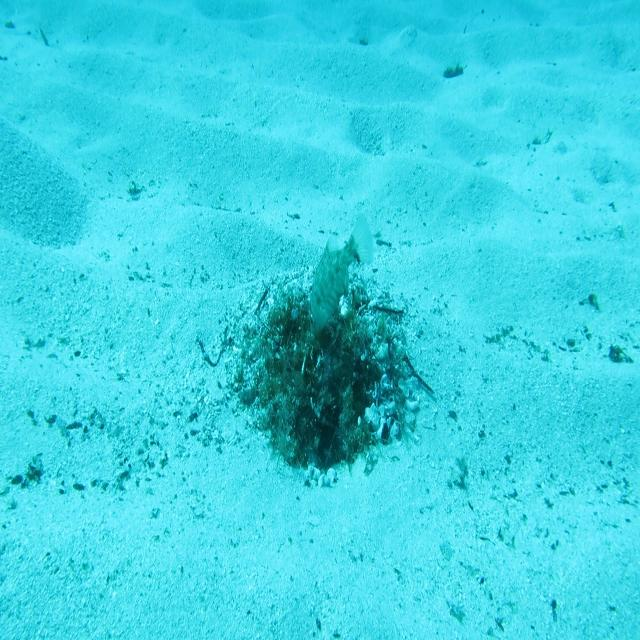INSF: (308, 214, 375, 338)
core_nest: (294, 314, 343, 349)
nest: (213, 264, 422, 494)
vegetation: (442, 61, 466, 82)
